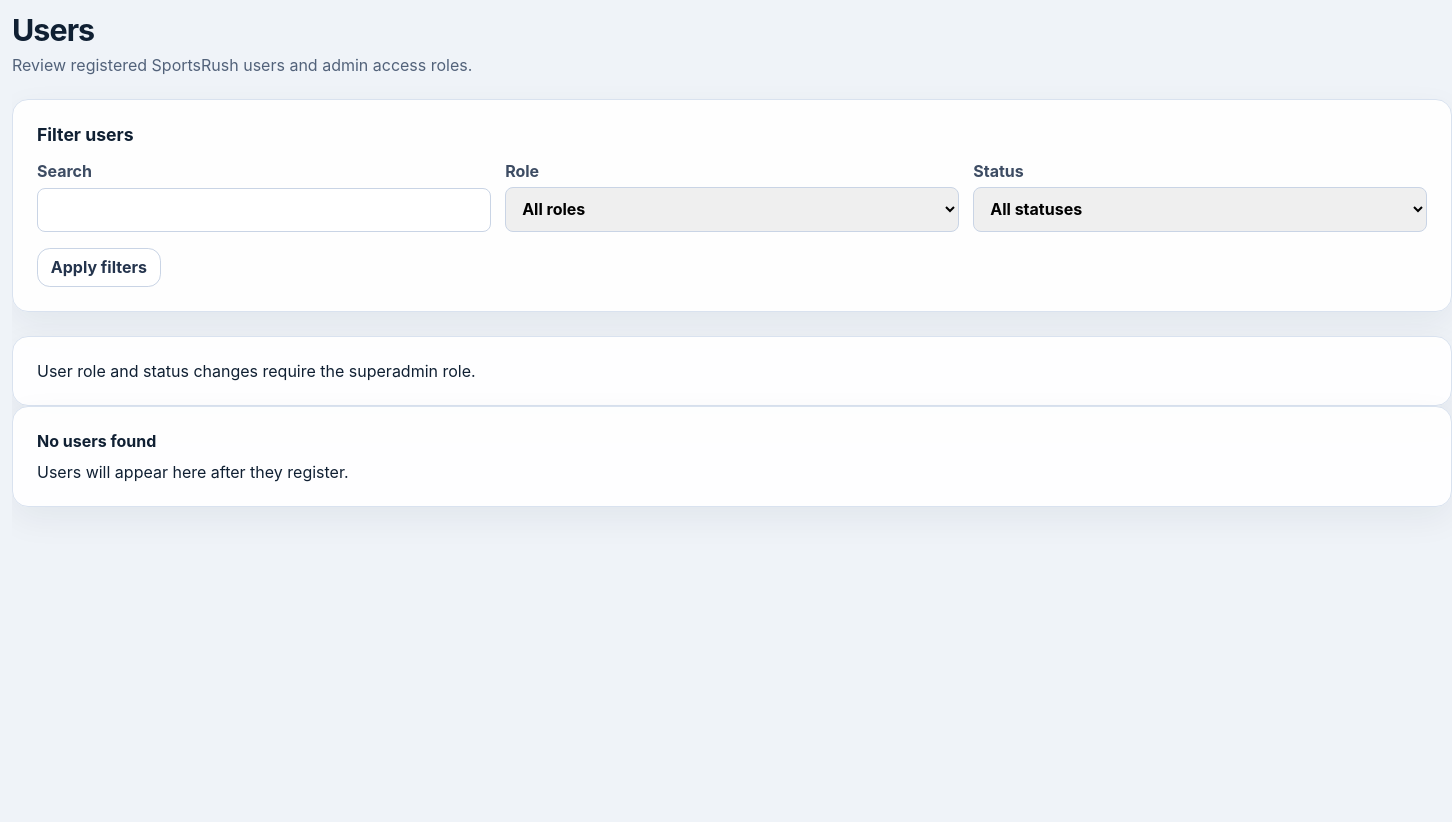
UsersPage › filters users with supported API query params
Expected: the text "No users found" is shown, top-left (37, 431), bottom-right (156, 451)
In the field labelled "Search": x=264, y=210 top-left (37, 188), bottom-right (491, 232), type "admin"
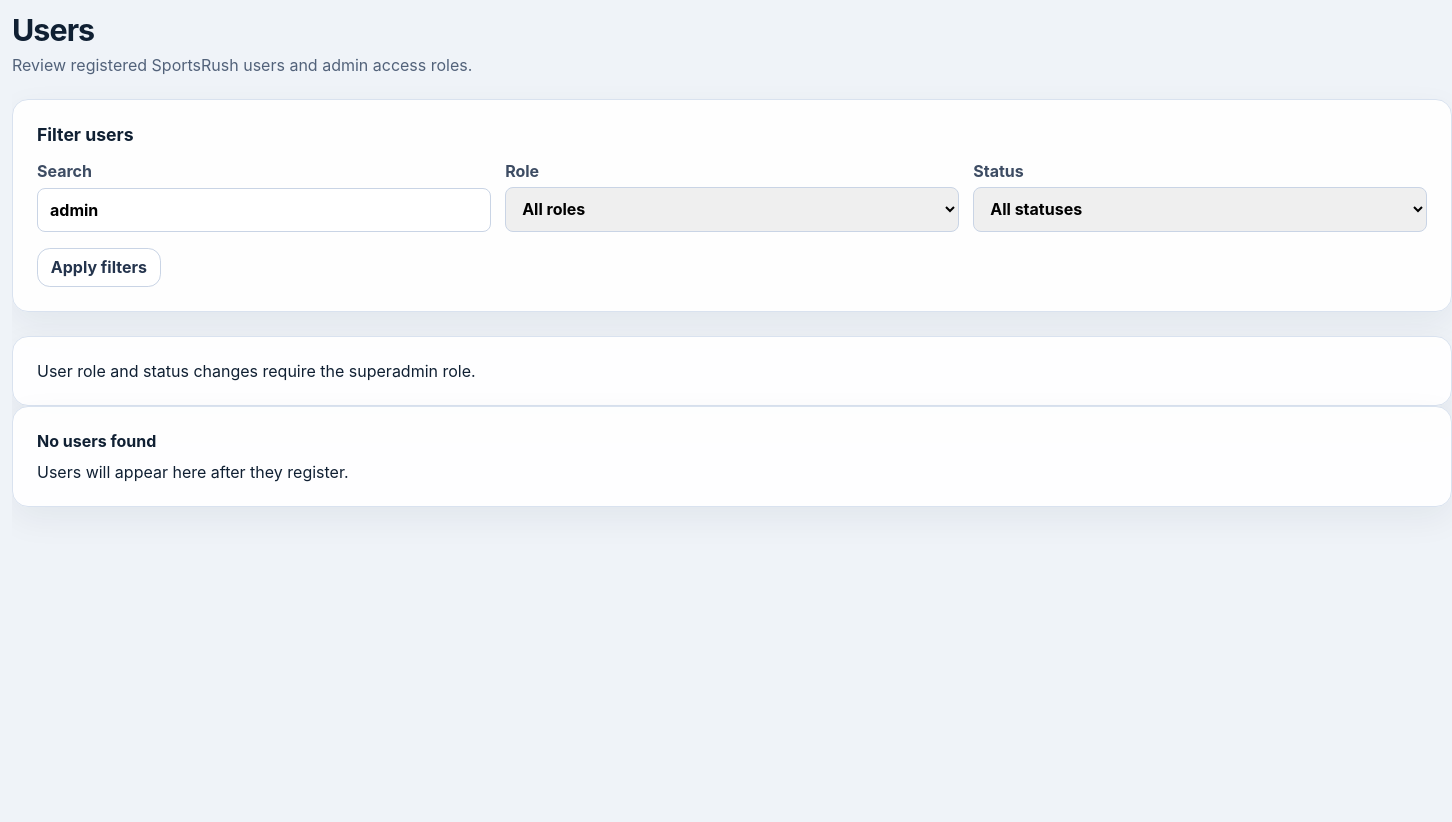
Select "admin" in the dropdown labelled "Role": x=732, y=209 top-left (505, 187), bottom-right (959, 232)
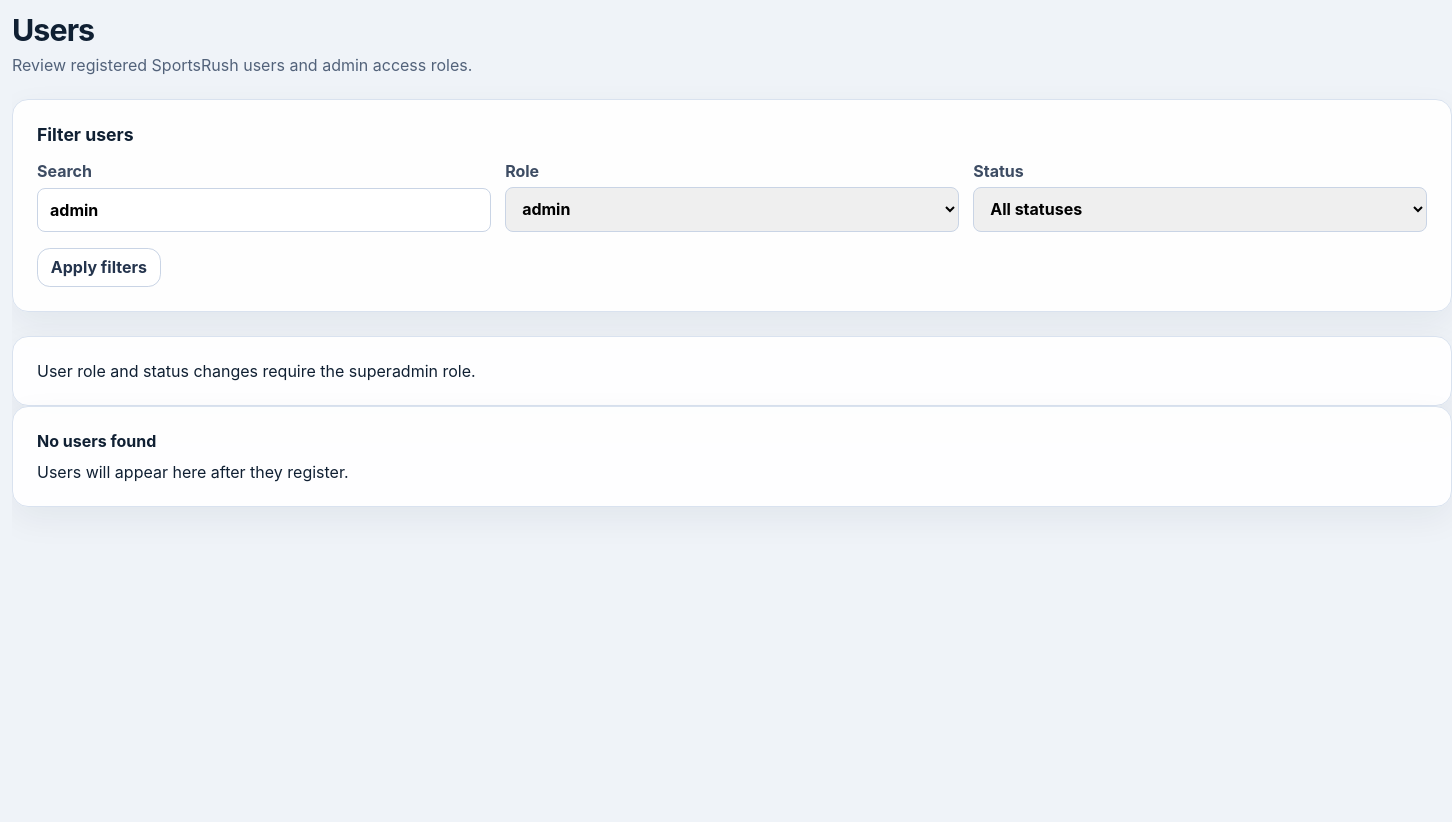
Select "Inactive" in the dropdown labelled "Status": x=1200, y=209 top-left (973, 187), bottom-right (1427, 232)
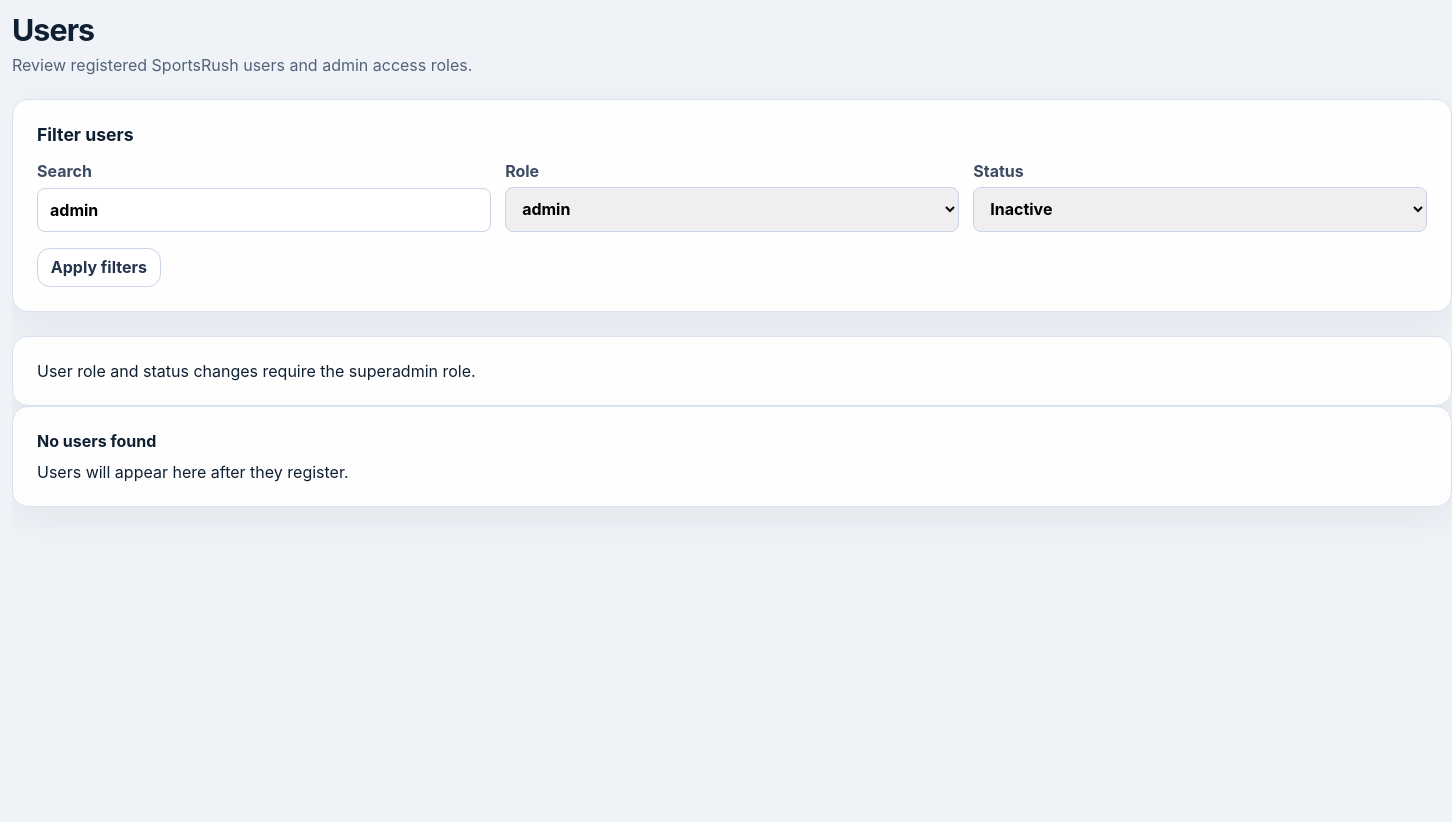
Click the button "Apply filters": x=99, y=267 top-left (37, 248), bottom-right (161, 287)
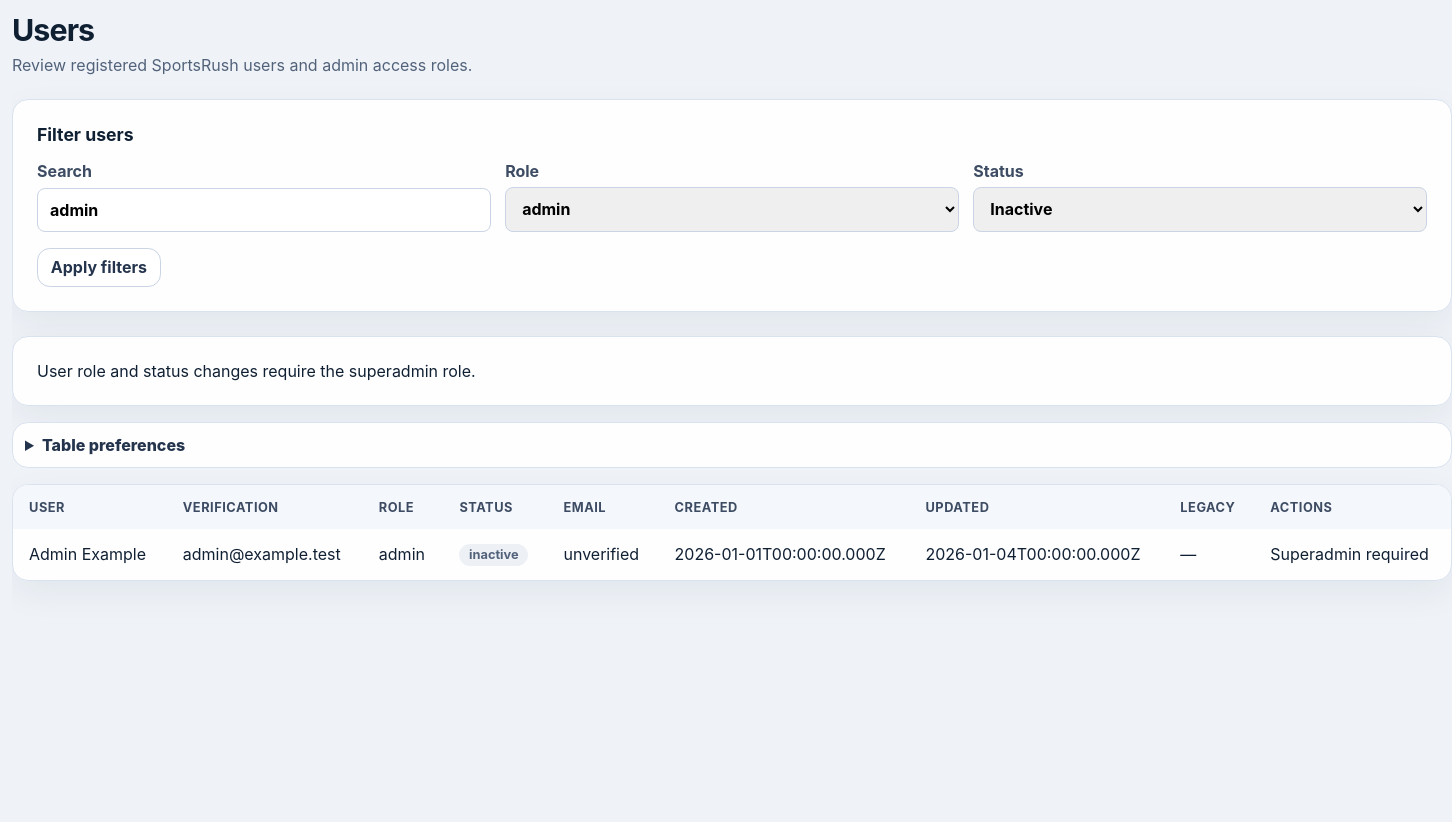
Expected: the cell "Admin Example" is shown, top-left (13, 529), bottom-right (167, 580)
Expected: the cell "inactive" is shown, top-left (443, 529), bottom-right (547, 580)
Expected: the cell "unverified" is shown, top-left (548, 529), bottom-right (659, 580)
